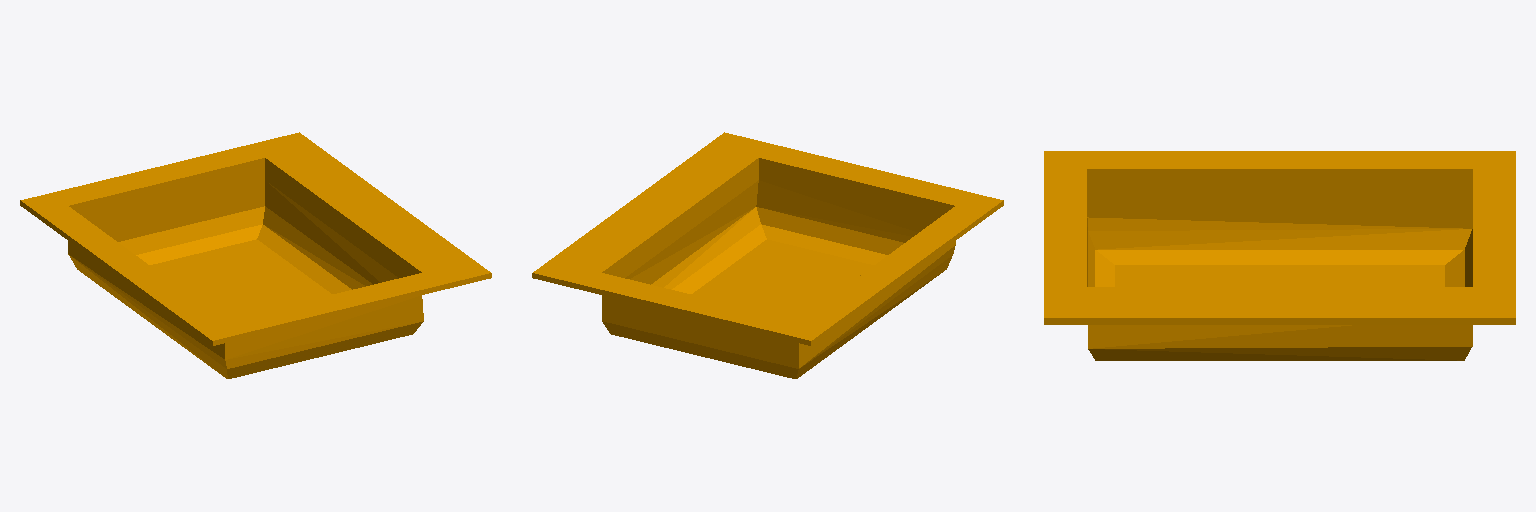
URDF robot description (Sink):
<robot name="Sink">
    <link name="sink">
        <visual>
            <geometry>
                <mesh filename="meshes/sink.obj"/>
            </geometry>
        </visual>
        <collision>
            <geometry>
                <mesh filename="meshes/sink.obj"/>
            </geometry>
        </collision>
    </link>
</robot>

--- Render facts (derived) ---
3 views of the same robot in one strip: view 1: azimuth 30°, elevation 25°; view 2: azimuth 150°, elevation 25°; view 3: azimuth 270°, elevation 25° (orthographic).
Model Sink with 1 links and 0 joints (none), rooted at sink, posed all joints at 0.
Links seen in each view (by area): view 1: sink; view 2: sink; view 3: sink.
Link boxes in pixels (bbox=[...]): sink: bbox=[20, 132, 491, 378]; sink: bbox=[532, 132, 1003, 378]; sink: bbox=[1044, 151, 1515, 360].
Bounding box of the posed robot: 0.0768 × 0.0916 × 0.018 m (x, y, z).
Meshes: 1 distinct files referenced, 1 mesh visuals loaded (1 OBJ).